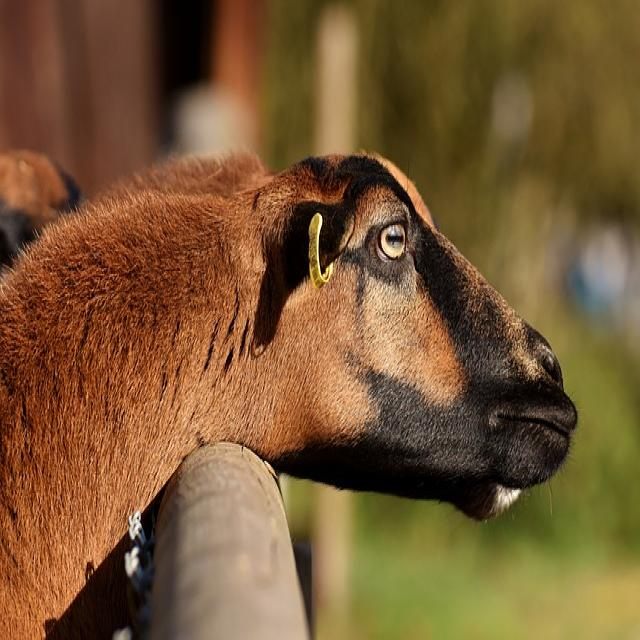goat: (0, 152, 580, 640)
